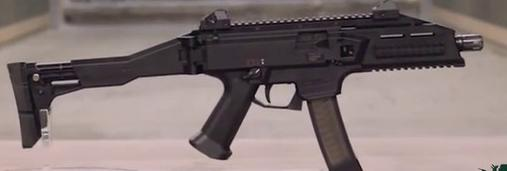gun: (1, 1, 507, 171)
